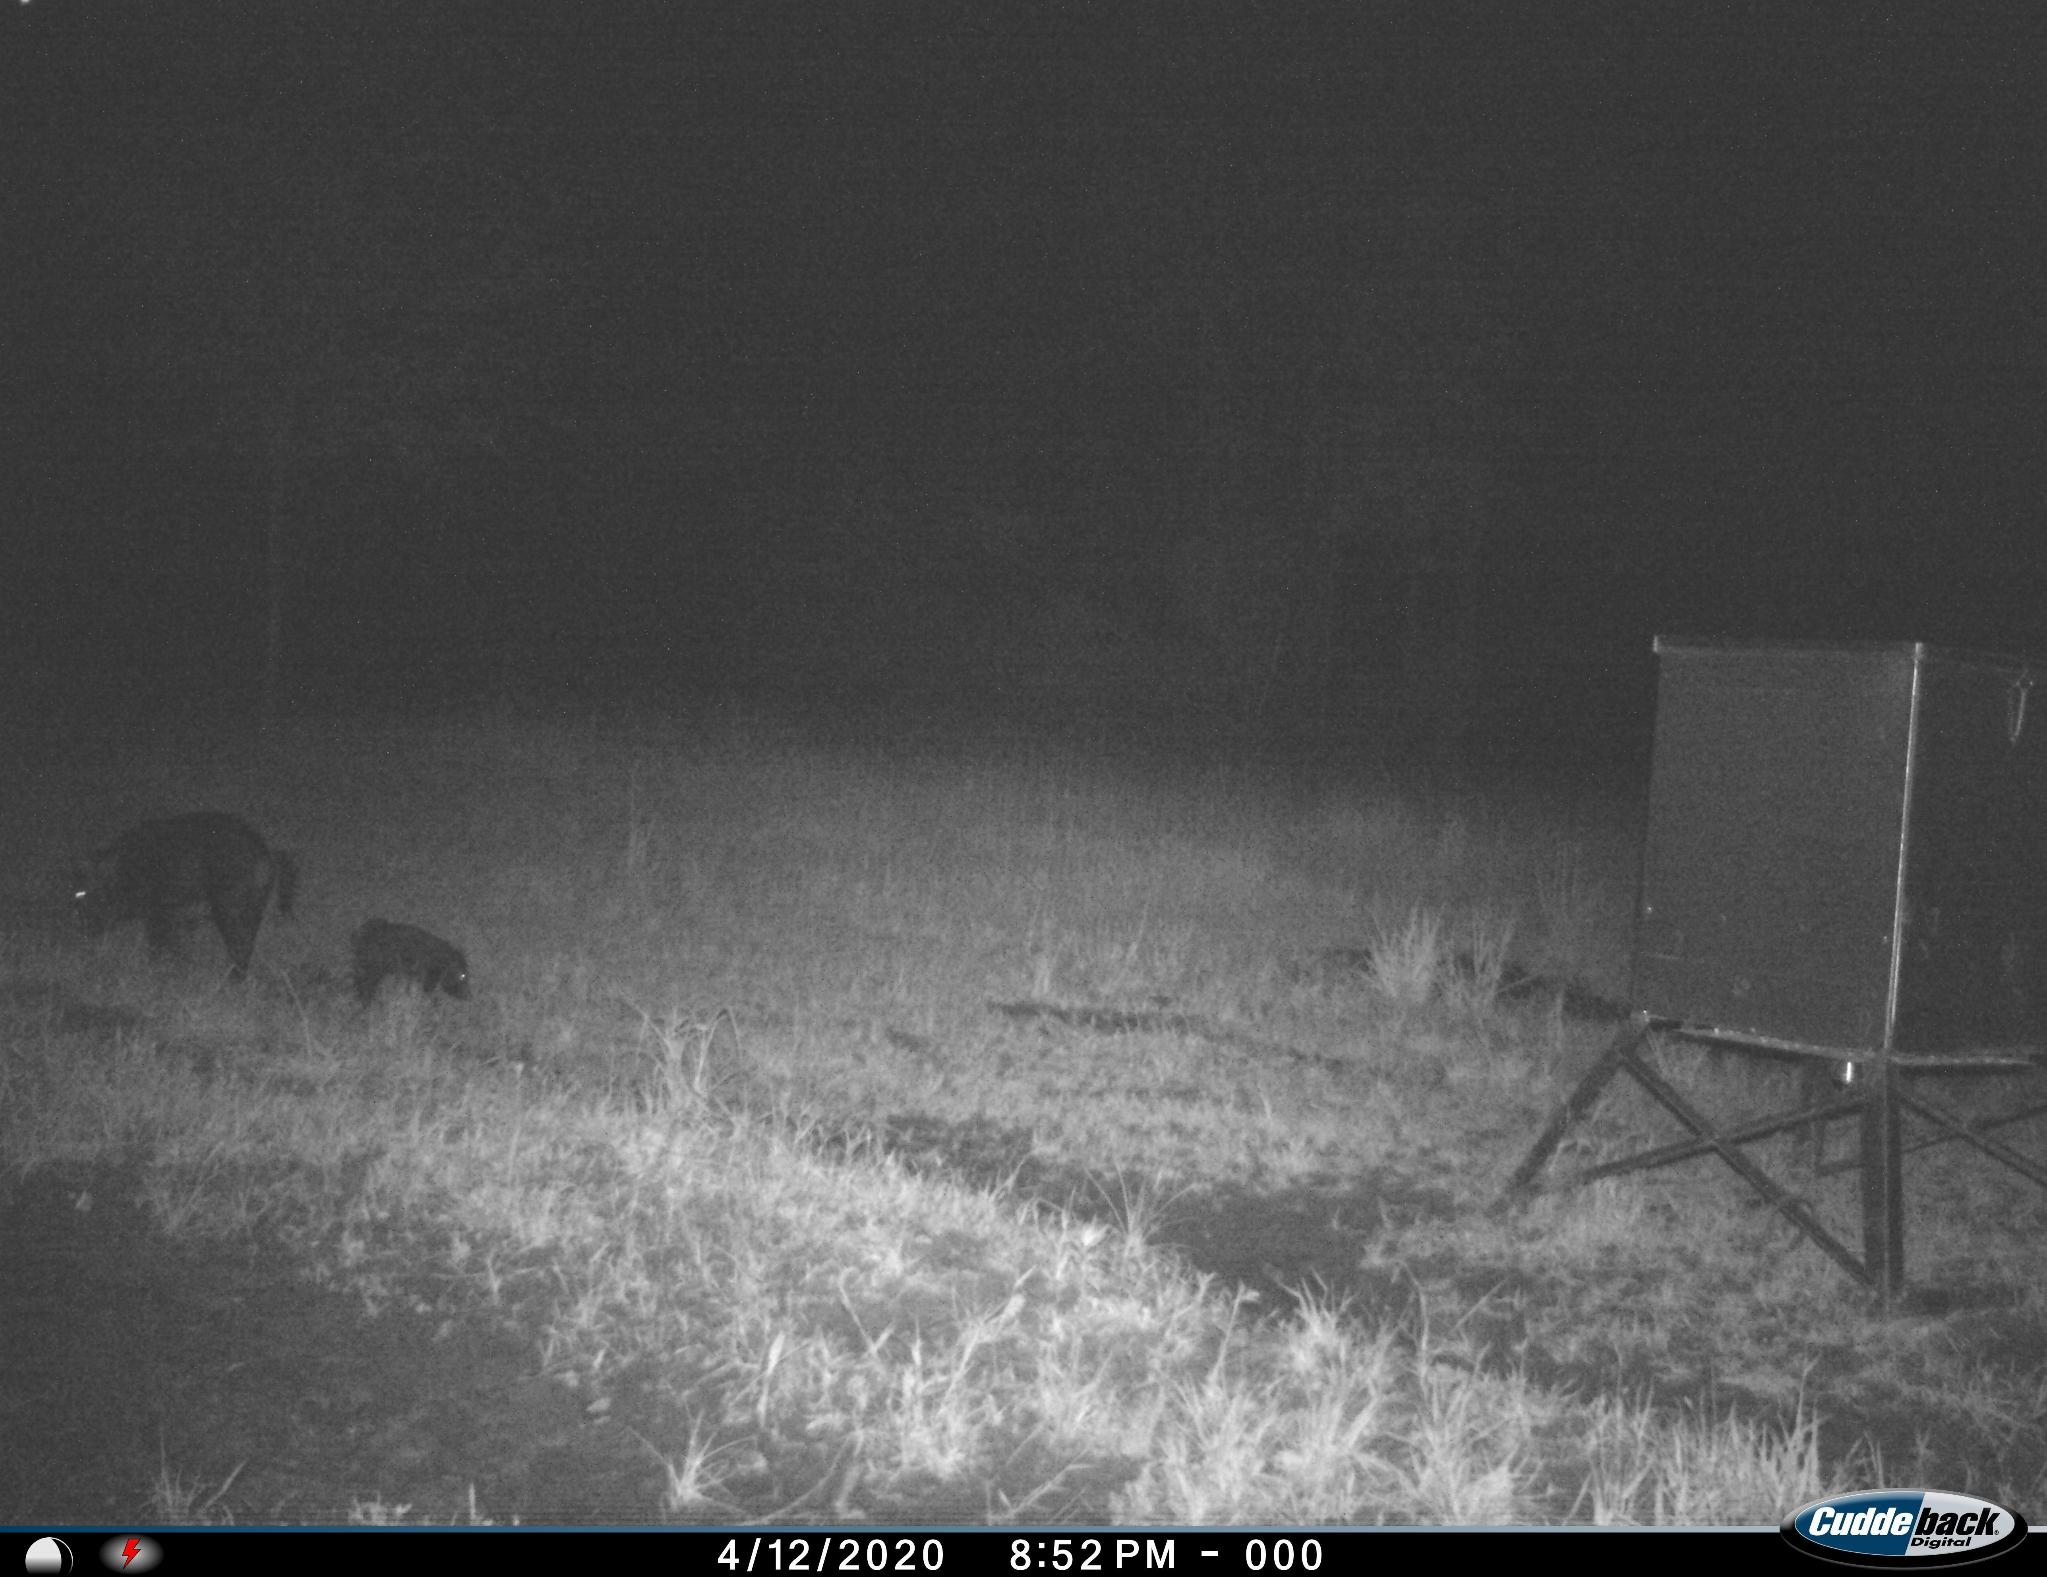Hog: (58, 805, 308, 1009), (343, 903, 487, 1030)
